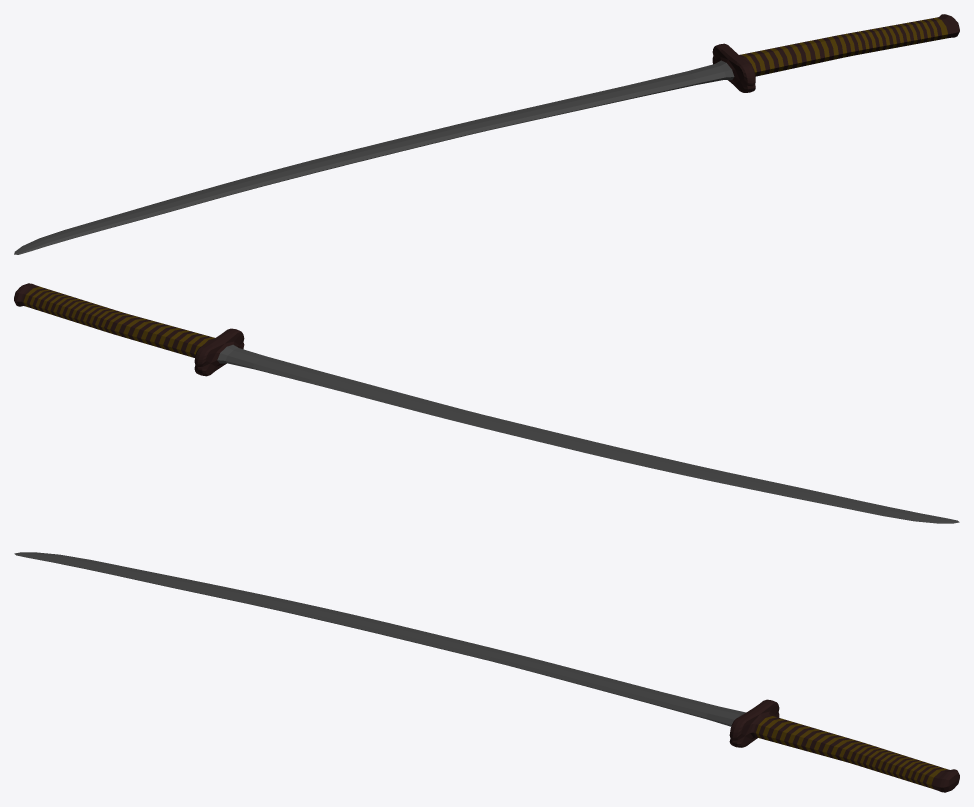
File: basebol_sopas3.fbx
The picture shows the model from 3 angles, top to bottom: view 1: azimuth 30°, elevation 25°; view 2: azimuth 150°, elevation 25°; view 3: azimuth 330°, elevation 25°; orthographic projection.
Parts seen in each view (by area): view 1: Cube.003; view 2: Cube.003; view 3: Cube.003.
Boxes of the visible parts, x1,y1,x2,y2 form: Cube.003: (14, 14, 959, 254); Cube.003: (14, 283, 959, 523); Cube.003: (14, 552, 959, 792).
Size of the model in its own units: 569 by 15.81 by 42.26.
